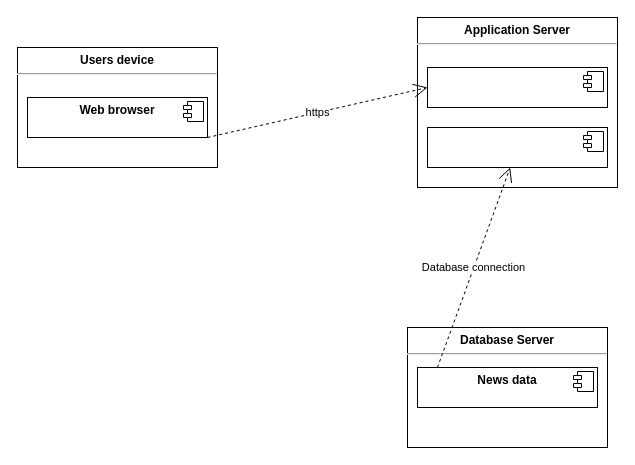
Some shapes in this 635 by 465 pixel diagram are drawn without their labels. The shapes that lost their labels are listed below. From the top down, each one's centre as x and y in pixels, then its label:
At pixel 517 87: "Web application".
At pixel 517 147: "Database API".
